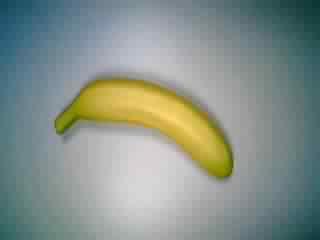banana: (53, 74, 236, 183)
